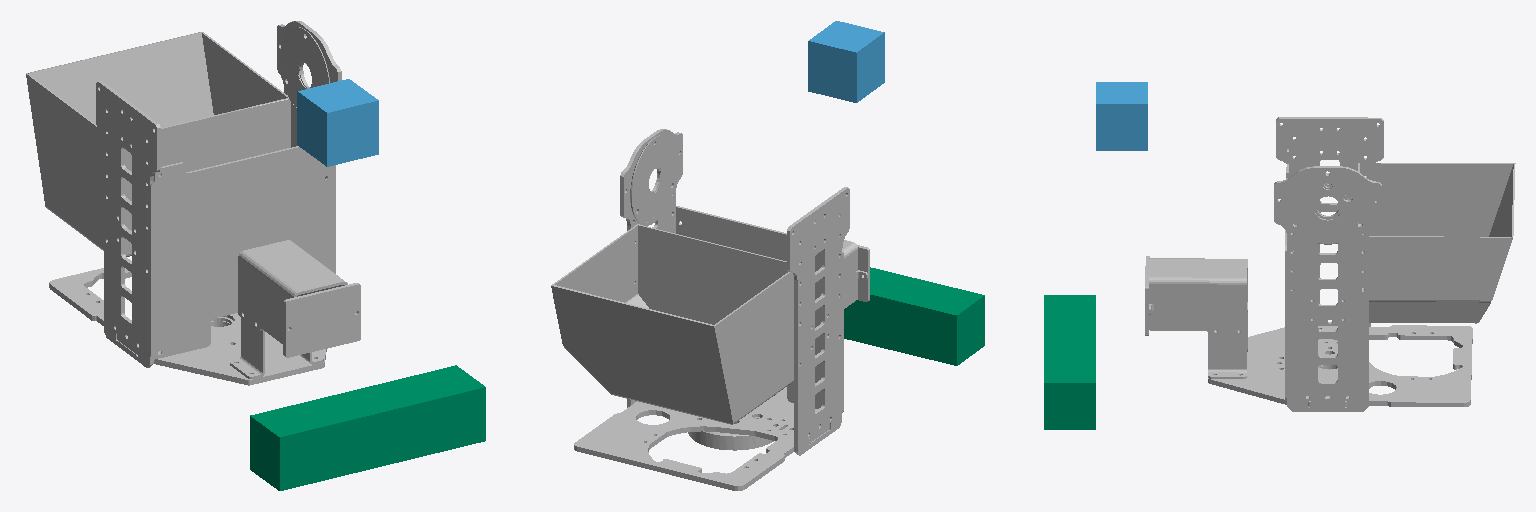
URDF robot description (icra_robot):
<?xml version="1.0"?>
<!-- created with Phobos 1.0.1 "Capricious Choutengan" -->
  <robot name="icra_robot">

    <link name="base_link">
      <inertial>
        <origin xyz="0 0 0" rpy="0 0 0"/>
        <mass value="0.001"/>
        <inertia ixx="0.001" ixy="0" ixz="0" iyy="0.001" iyz="0" izz="0.001"/>
      </inertial>
      <visual name="base">
        <origin xyz="-0.00344 0.04636 0" rpy="1.5708 0 0"/>
        <geometry>
          <mesh filename="package://irm_icra_simulator/meshes/dae/base_link.dae" scale="0.001 0.001 0.001"/>
        </geometry>
      </visual>
      <collision name="base">
        <origin xyz="0 -2e-05 -0.03168" rpy="1.5708 0 0"/>
        <geometry>
          <box size="0.5 0.28033 0.595"/>
        </geometry>
      </collision>
    </link>

    <link name="camera_link">
      <inertial>
        <origin xyz="0 0 0" rpy="0 0 0"/>
        <mass value="0"/>
        <inertia ixx="0.001" ixy="0" ixz="0" iyy="0.001" iyz="0" izz="0.001"/>
      </inertial>
      <visual name="Cube">
        <origin xyz="0 0 0" rpy="0 0 0"/>
        <geometry>
          <box size="0.04 0.04 0.04"/>
        </geometry>
      </visual>
    </link>

    <link name="stereo_link">
      <inertial>
        <origin xyz="0 0 0" rpy="0 0 0"/>
        <mass value="0.001"/>
        <inertia ixx="0.001" ixy="0" ixz="0" iyy="0.001" iyz="0" izz="0.001"/>
      </inertial>
      <visual name="stereo">
        <origin xyz="0 0 0" rpy="0 0 0"/>
        <geometry>
          <box size="0.16 0.04 0.04"/>
        </geometry>
      </visual>
    </link>

    <link name="turret_pitch_link">
      <inertial>
        <origin xyz="0 0 0" rpy="0 0 0"/>
        <mass value="0.001"/>
        <inertia ixx="0.001" ixy="0" ixz="0" iyy="0.001" iyz="0" izz="0.001"/>
      </inertial>
      <visual name="turret_pitch">
        <origin xyz="0.02853 -0.05461 0.05365" rpy="0 1.5708 0"/>
        <geometry>
          <mesh filename="package://irm_icra_simulator/meshes/dae/turret_pitch.dae" scale="0.001 0.001 0.001"/>
        </geometry>
      </visual>
      <collision name="turret_pitch">
        <origin xyz="0.06629 -0.05478 0.06775" rpy="0 1.5708 0"/>
        <geometry>
          <box size="0.10594 0.12283 0.28648"/>
        </geometry>
      </collision>
    </link>

    <link name="turret_yaw_link">
      <inertial>
        <origin xyz="0 0 0" rpy="0 0 0"/>
        <mass value="0.001"/>
        <inertia ixx="0.001" ixy="0" ixz="0" iyy="0.001" iyz="0" izz="0.001"/>
      </inertial>
      <visual name="turret_yaw">
        <origin xyz="0 0 0" rpy="1.5708 0 0"/>
        <geometry>
          <mesh filename="package://irm_icra_simulator/meshes/dae/turret_yaw.dae" scale="0.001 0.001 0.001"/>
        </geometry>
      </visual>
      <collision name="turret_yaw">
        <origin xyz="-0.01409 0.00635 -0.01969" rpy="1.5708 0 0"/>
        <geometry>
          <box size="0.24047 0.21628 0.39979"/>
        </geometry>
      </collision>
    </link>

    <joint name="camera_link" type="fixed">
      <origin xyz="0.15971 0.04459 0.068" rpy="-1.5708 1.5708 0"/>
      <axis xyz="0 1 0" />
      <parent link="turret_pitch_link"/>
      <child link="camera_link"/>
    </joint>

    <joint name="stereo_link" type="fixed">
      <origin xyz="0 -0.2 0.07702" rpy="0 0 0"/>
      <axis xyz="0 1 0" />
      <parent link="base_link"/>
      <child link="stereo_link"/>
    </joint>

    <joint name="turret_pitch_joint" type="revolute">
      <origin xyz="0.05365 0.02853 0.05461" rpy="1.5708 0 -1.5708"/>
      <parent link="turret_yaw_link"/>
      <child link="turret_pitch_link"/>
      <axis xyz="0 0 1.0"/>
      <limit lower="-1.04" upper="1.04" effort="5.0" velocity="1.0"/>
    </joint>

    <joint name="turret_yaw_joint" type="revolute">
      <origin xyz="0.01434 -0.02883 0.18781" rpy="0 0 0"/>
      <parent link="base_link"/>
      <child link="turret_yaw_link"/>
      <axis xyz="0 0 1.0"/>
      <limit lower="-3.14" upper="3.14" effort="5.0" velocity="1.0"/>
    </joint>

<!-- When joint control is not needed, comment the following lines -->
<!-- !!! Keep Joint Control enabled will force you to restart Gazebo if icra_robot is deleted !!! -->
<!-- Joint Control starts here >
   <transmission name="tran1">
     <type>transmission_interface/SimpleTransmission</type>
     <joint name="turret_yaw_joint">
       <hardwareInterface>hardware_interface/PositionJointInterface</hardwareInterface>
     </joint>
     <actuator name="turret_yaw_motor">
       <hardwareInterface>hardware_interface/PositionJointInterface</hardwareInterface>
       <mechanicalReduction>1</mechanicalReduction>
     </actuator>
   </transmission>

   <transmission name="tran2">
     <type>transmission_interface/SimpleTransmission</type>
     <joint name="turret_pitch_joint">
       <hardwareInterface>hardware_interface/PositionJointInterface</hardwareInterface>
     </joint>
     <actuator name="turret_pitch_motor">
       <hardwareInterface>hardware_interface/PositionJointInterface</hardwareInterface>
       <mechanicalReduction>1</mechanicalReduction>
     </actuator>
   </transmission >

     <gazebo>
       <plugin filename="libgazebo_ros_control.so" name="gazebo_ros_control">
         <robotNamespace>/icra_robot</robotNamespace>
       </plugin>
     </gazebo>
< Joint Control ends here -->

     <gazebo>
       <plugin name="object_controller" filename="libgazebo_ros_planar_move.so">
         <commandTopic>/icra_robot/cmd_vel</commandTopic>
         <odometryTopic>odom</odometryTopic>
         <odometryFrame>odom</odometryFrame>
         <odometryRate>20.0</odometryRate>
         <robotBaseFrame>base_link</robotBaseFrame>
       </plugin>
     </gazebo>

<gazebo reference="camera_link">
<sensor name='my_camera' type='camera'>
      <camera>
         <pose>0 0 0 0 0 -1.5708</pose>
            <horizontal_fov>1.047</horizontal_fov>
            <image>
              <width>600</width>
              <height>400</height>
            </image>
            <clip>
              <near>0.1</near>
              <far>100</far>
            </clip>
          </camera>
          <always_on>1</always_on>
          <update_rate>30</update_rate>
      <plugin name="camera_controller" filename="libgazebo_ros_camera.so">
          <alwaysOn>true</alwaysOn>
          <updateRate>0.0</updateRate>
          <cameraName>turret_cam</cameraName>
          <imageTopicName>image_raw</imageTopicName>
          <cameraInfoTopicName>camera_info</cameraInfoTopicName>
          <frameName>camera_link</frameName>				    
          <hackBaseline>0.07</hackBaseline>
          <distortionK1>0.0</distortionK1>				    
          <distortionK2>0.0</distortionK2>
          <distortionK3>0.0</distortionK3>
          <distortionT1>0.0</distortionT1>				    
          <distortionT2>0.0</distortionT2>
      </plugin>
    </sensor>
  </gazebo>
<gazebo reference="stereo_link">
<sensor type="multicamera" name="stereo_camera">
      <update_rate>30.0</update_rate>
      <camera name="left">
        <pose>0.035 0 0 0 0 -1.5708</pose>
        <horizontal_fov>1.3962634</horizontal_fov>
        <image>
          <width>400</width>
          <height>300</height>
          <format>R8G8B8</format>
        </image>
        <clip>
          <near>0.02</near>
          <far>300</far>
        </clip>
        <noise>
          <type>gaussian</type>
          <mean>0.0</mean>
          <stddev>0.007</stddev>
        </noise>
      </camera>
      <camera name="right">
        <pose>-0.035 0 0 0 0 -1.5708</pose>
        <horizontal_fov>1.3962634</horizontal_fov>
        <image>
          <width>400</width>
          <height>300</height>
          <format>R8G8B8</format>
        </image>
        <clip>
          <near>0.02</near>
          <far>300</far>
        </clip>
        <noise>
          <type>gaussian</type>
          <mean>0.0</mean>
          <stddev>0.007</stddev>
        </noise>
      </camera>
      <plugin name="stereo_camera_controller" filename="libgazebo_ros_multicamera.so">
        <alwaysOn>true</alwaysOn>
        <updateRate>0.0</updateRate>
        <cameraName>stereo/camera</cameraName>
        <imageTopicName>image_raw</imageTopicName>
        <cameraInfoTopicName>camera_info</cameraInfoTopicName>
        <frameName>left_camera_optical_frame</frameName>
        <!--<rightFrameName>right_camera_optical_frame</rightFrameName>-->
        <hackBaseline>0.07</hackBaseline>
        <distortionK1>0.0</distortionK1>
        <distortionK2>0.0</distortionK2>
        <distortionK3>0.0</distortionK3>
        <distortionT1>0.0</distortionT1>
        <distortionT2>0.0</distortionT2>
      </plugin>
    </sensor>
  </gazebo>
</robot>

--- Facts derived from the render (not from the file) ---
Views: 3 orthographic renders of the robot side by side, from view 1: azimuth 30°, elevation 25°; view 2: azimuth 150°, elevation 25°; view 3: azimuth 270°, elevation 25°.
Robot: icra_robot — 5 links, 4 joints (2 revolute, 2 fixed); root link base_link; default pose: every joint at zero.
Links seen in each view (by area): view 1: turret_yaw_link, stereo_link, camera_link; view 2: turret_yaw_link, stereo_link, camera_link; view 3: turret_yaw_link, stereo_link, camera_link.
Link boxes in pixels (x1,y1,x2,y2): turret_yaw_link: (26, 21, 360, 385); stereo_link: (250, 365, 485, 490); camera_link: (297, 79, 378, 166); turret_yaw_link: (551, 129, 869, 490); stereo_link: (844, 267, 984, 365); camera_link: (808, 21, 884, 102); turret_yaw_link: (1145, 117, 1515, 411); stereo_link: (1044, 295, 1095, 429); camera_link: (1096, 82, 1147, 150).
Size in the robot's own frame: 0.16 by 0.3643 by 0.25 metres.
1 mesh visuals loaded from 3 distinct referenced files (1 Collada DAE); not drawn: 2 (reference not matched to a file when rendering).
